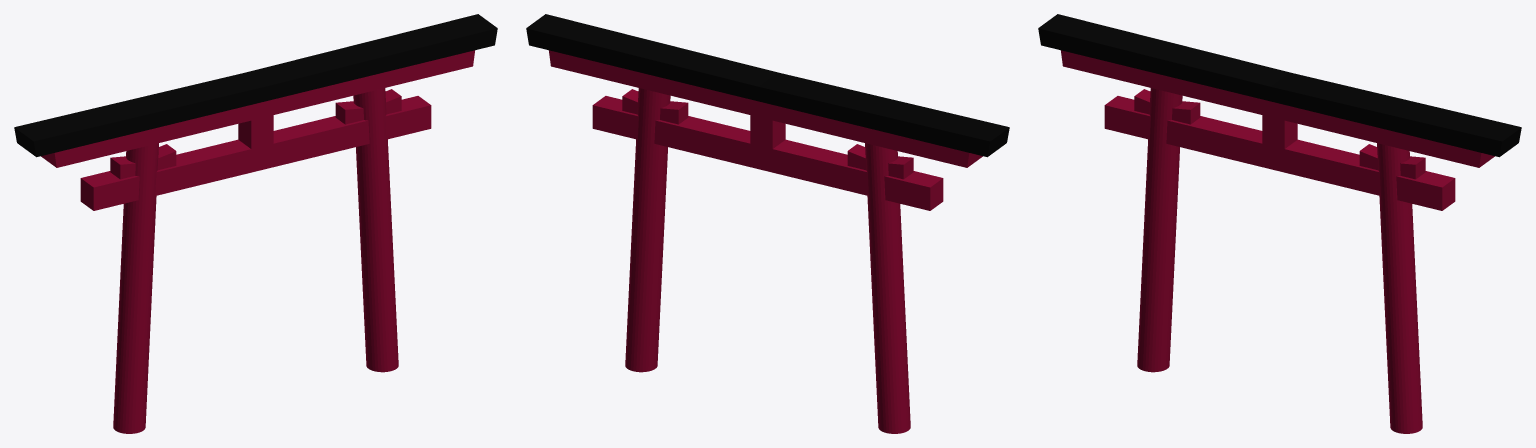
The model's file is Torii_JP.fbx.
3 views of the same model, side by side, from view 1: azimuth 30°, elevation 25°; view 2: azimuth 150°, elevation 25°; view 3: azimuth 330°, elevation 25° (orthographic).
Parts seen in each view (by area): view 1: Cylinder; view 2: Cylinder; view 3: Cylinder.
Part boxes in pixels (box(x1,y1,x2,y2)): Cylinder: box(14, 14, 497, 433); Cylinder: box(526, 14, 1009, 433); Cylinder: box(1038, 14, 1521, 433).
Bounding box in the file's own units: 3300 × 2164 × 240.
